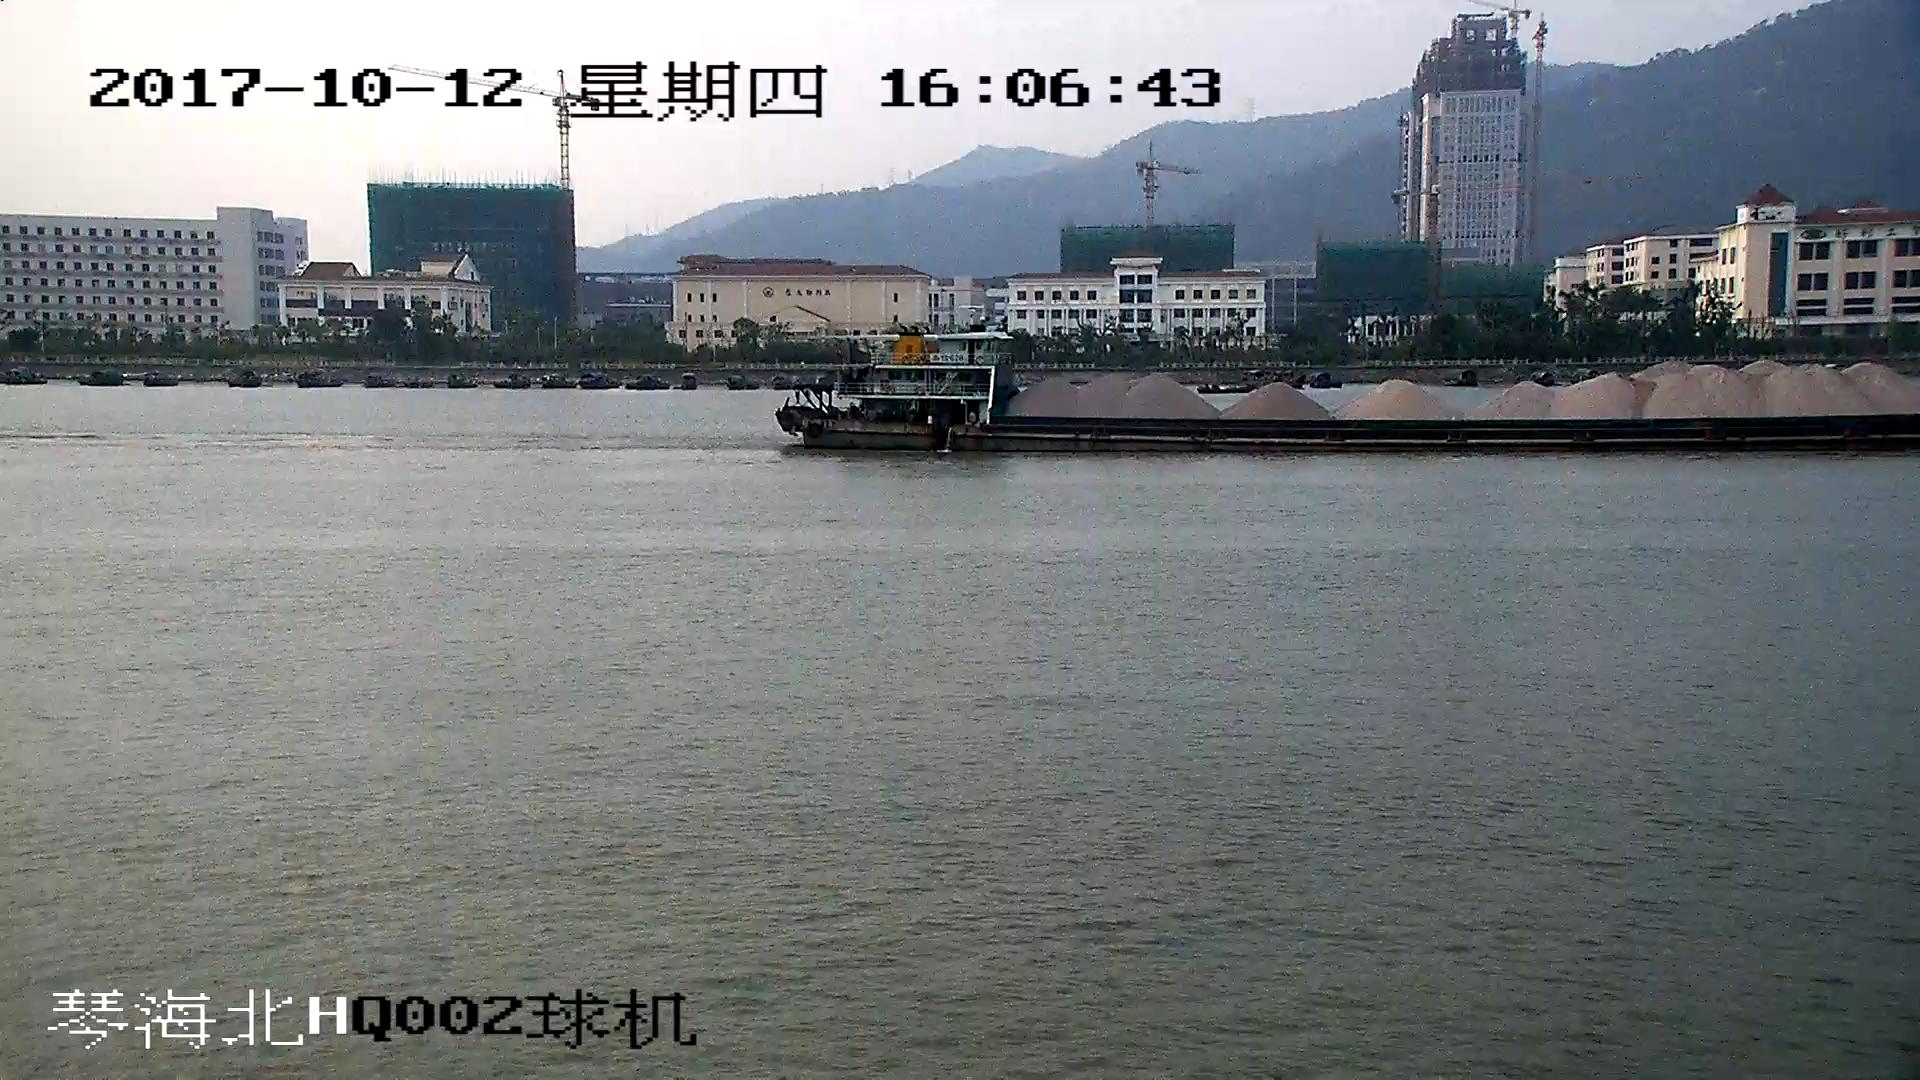ore carrier: (782, 331, 1920, 453)
